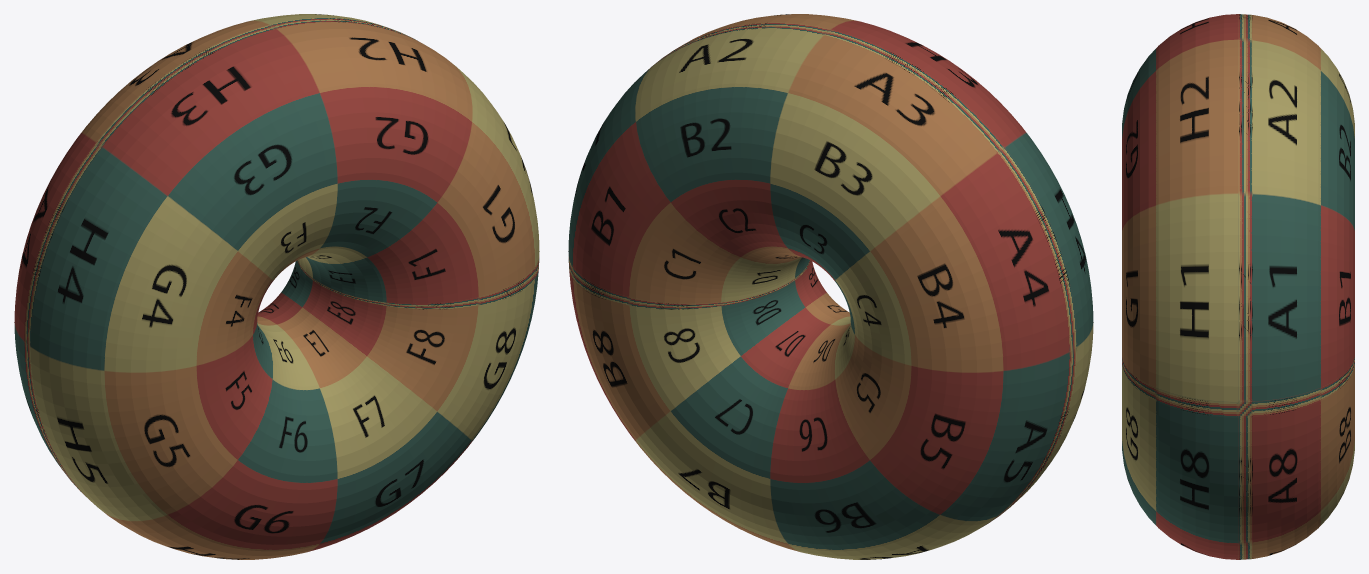
The model's file is texture_torus_R1_r8.glb.
3 views of the same model, side by side, from view 1: azimuth 30°, elevation 25°; view 2: azimuth 150°, elevation 25°; view 3: azimuth 270°, elevation 25° (orthographic). The views are drawn at different scales.
Parts seen in each view (by area): view 1: world; view 2: world; view 3: world.
Boxes of the visible parts, x1,y1,x2,y2 form: world: (14, 14, 539, 559); world: (568, 14, 1093, 559); world: (1122, 14, 1354, 559).
Bounding box in the file's own units: 21.33 × 21.33 × 9.09.
Materials: 1 (1 with a texture image).
